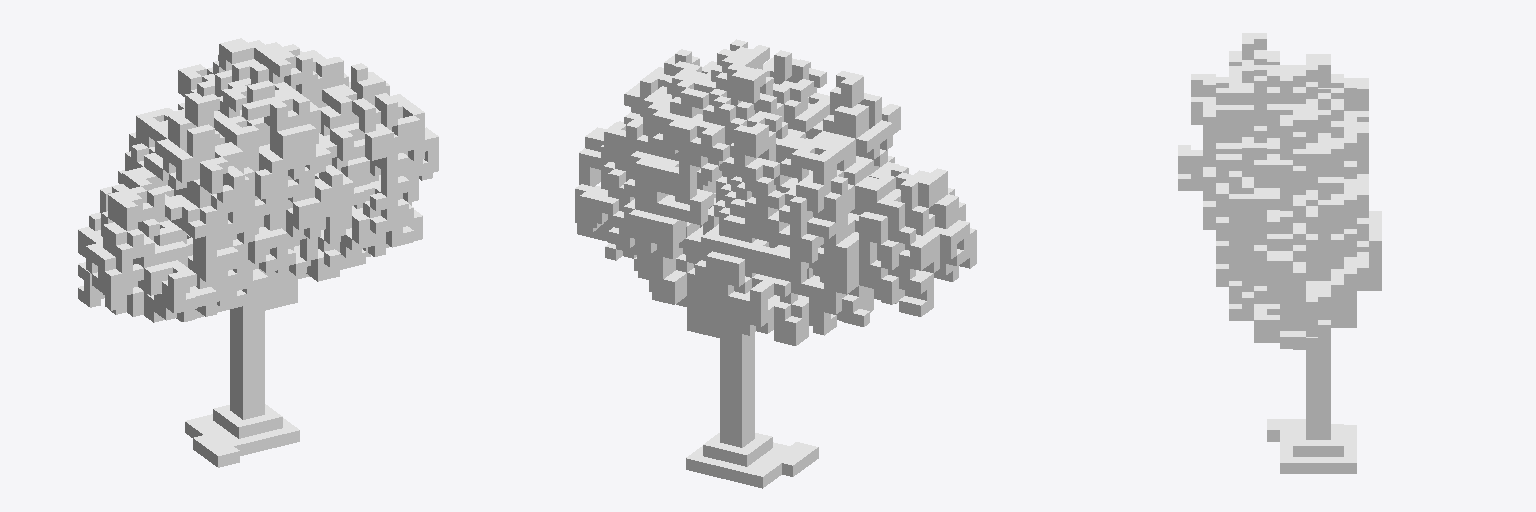
File: Trees2.obj
The picture shows the model from 3 angles: view 1: azimuth 30°, elevation 25°; view 2: azimuth 150°, elevation 25°; view 3: azimuth 270°, elevation 25°; orthographic projection.
Parts seen in each view (by area): view 1: object 1; view 2: object 1; view 3: object 1.
Part boxes in pixels (x1,y1,x2,y2): object 1: (78,38,438,467); object 1: (575,39,976,488); object 1: (1178,33,1381,473).
Bounding box in the file's own units: 3.2 × 3.4 × 1.6.